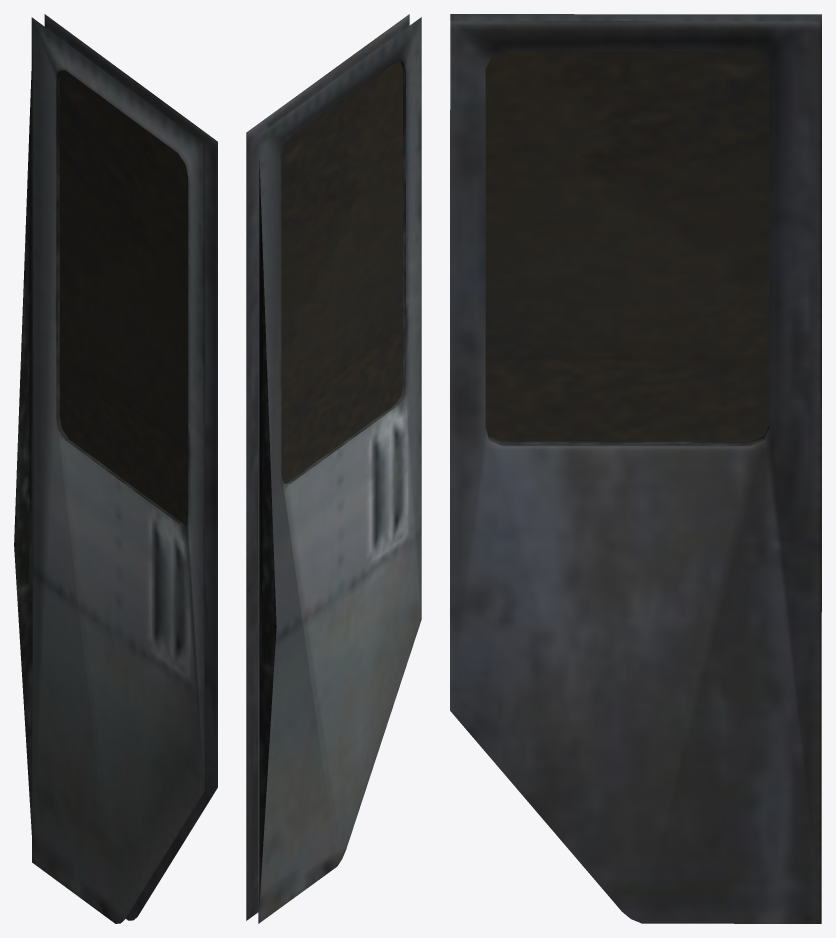
File: van_door.obj
3 renders of one model, left to right at view 1: azimuth 30°, elevation 25°; view 2: azimuth 150°, elevation 25°; view 3: azimuth 270°, elevation 25°, orthographic. The views are drawn at different scales.
Parts seen in each view (by area): view 1: van_door_models/props/cs_militia/van.003; view 2: van_door_models/props/cs_militia/van.003; view 3: van_door_models/props/cs_militia/van.003.
Boxes of the visible parts, left/top/right/bottom form: van_door_models/props/cs_militia/van.003: left=14, top=14, right=217, bottom=923; van_door_models/props/cs_militia/van.003: left=246, top=14, right=421, bottom=923; van_door_models/props/cs_militia/van.003: left=450, top=14, right=821, bottom=923.
Size of the model in its own units: 0.0597 by 1.53 by 0.5703.
Materials: 1 (1 with a texture image).
